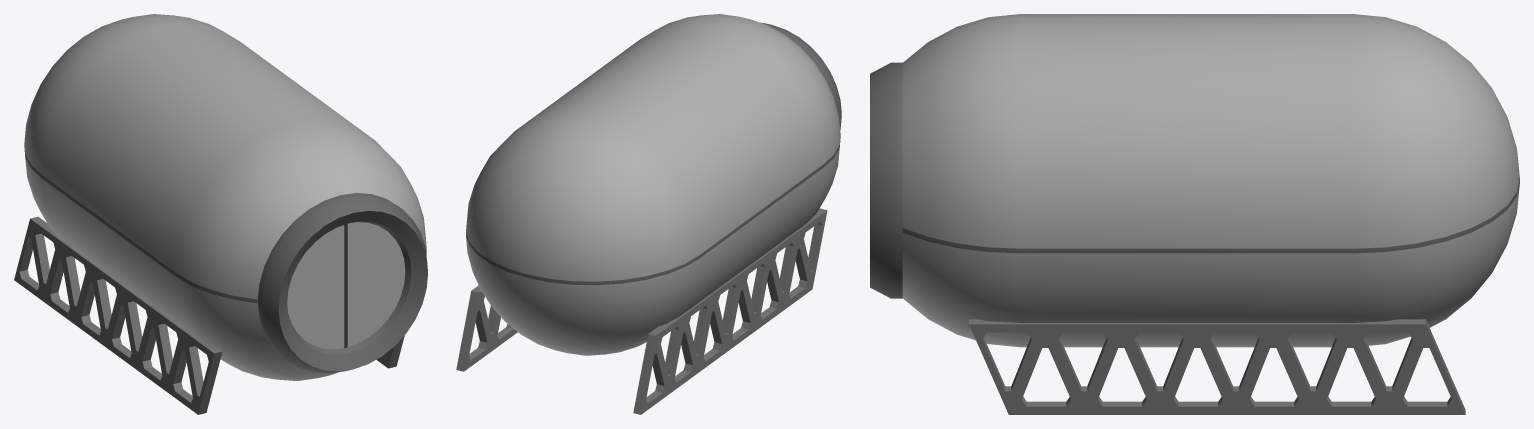
File: house-long.glb
3 renders of one model, left to right at view 1: azimuth 30°, elevation 25°; view 2: azimuth 150°, elevation 25°; view 3: azimuth 270°, elevation 25°, orthographic. The views are drawn at different scales.
Parts seen in each view (by area): view 1: House_Long; view 2: House_Long; view 3: House_Long.
Boxes of the visible parts, box(x1,y1,x2,y2) form: House_Long: box(14, 14, 427, 414); House_Long: box(456, 14, 841, 414); House_Long: box(870, 14, 1519, 414).
Bounding box in the file's own units: 3.99 × 4.31 × 7.79.
Materials: 1 (1 with a texture image).
